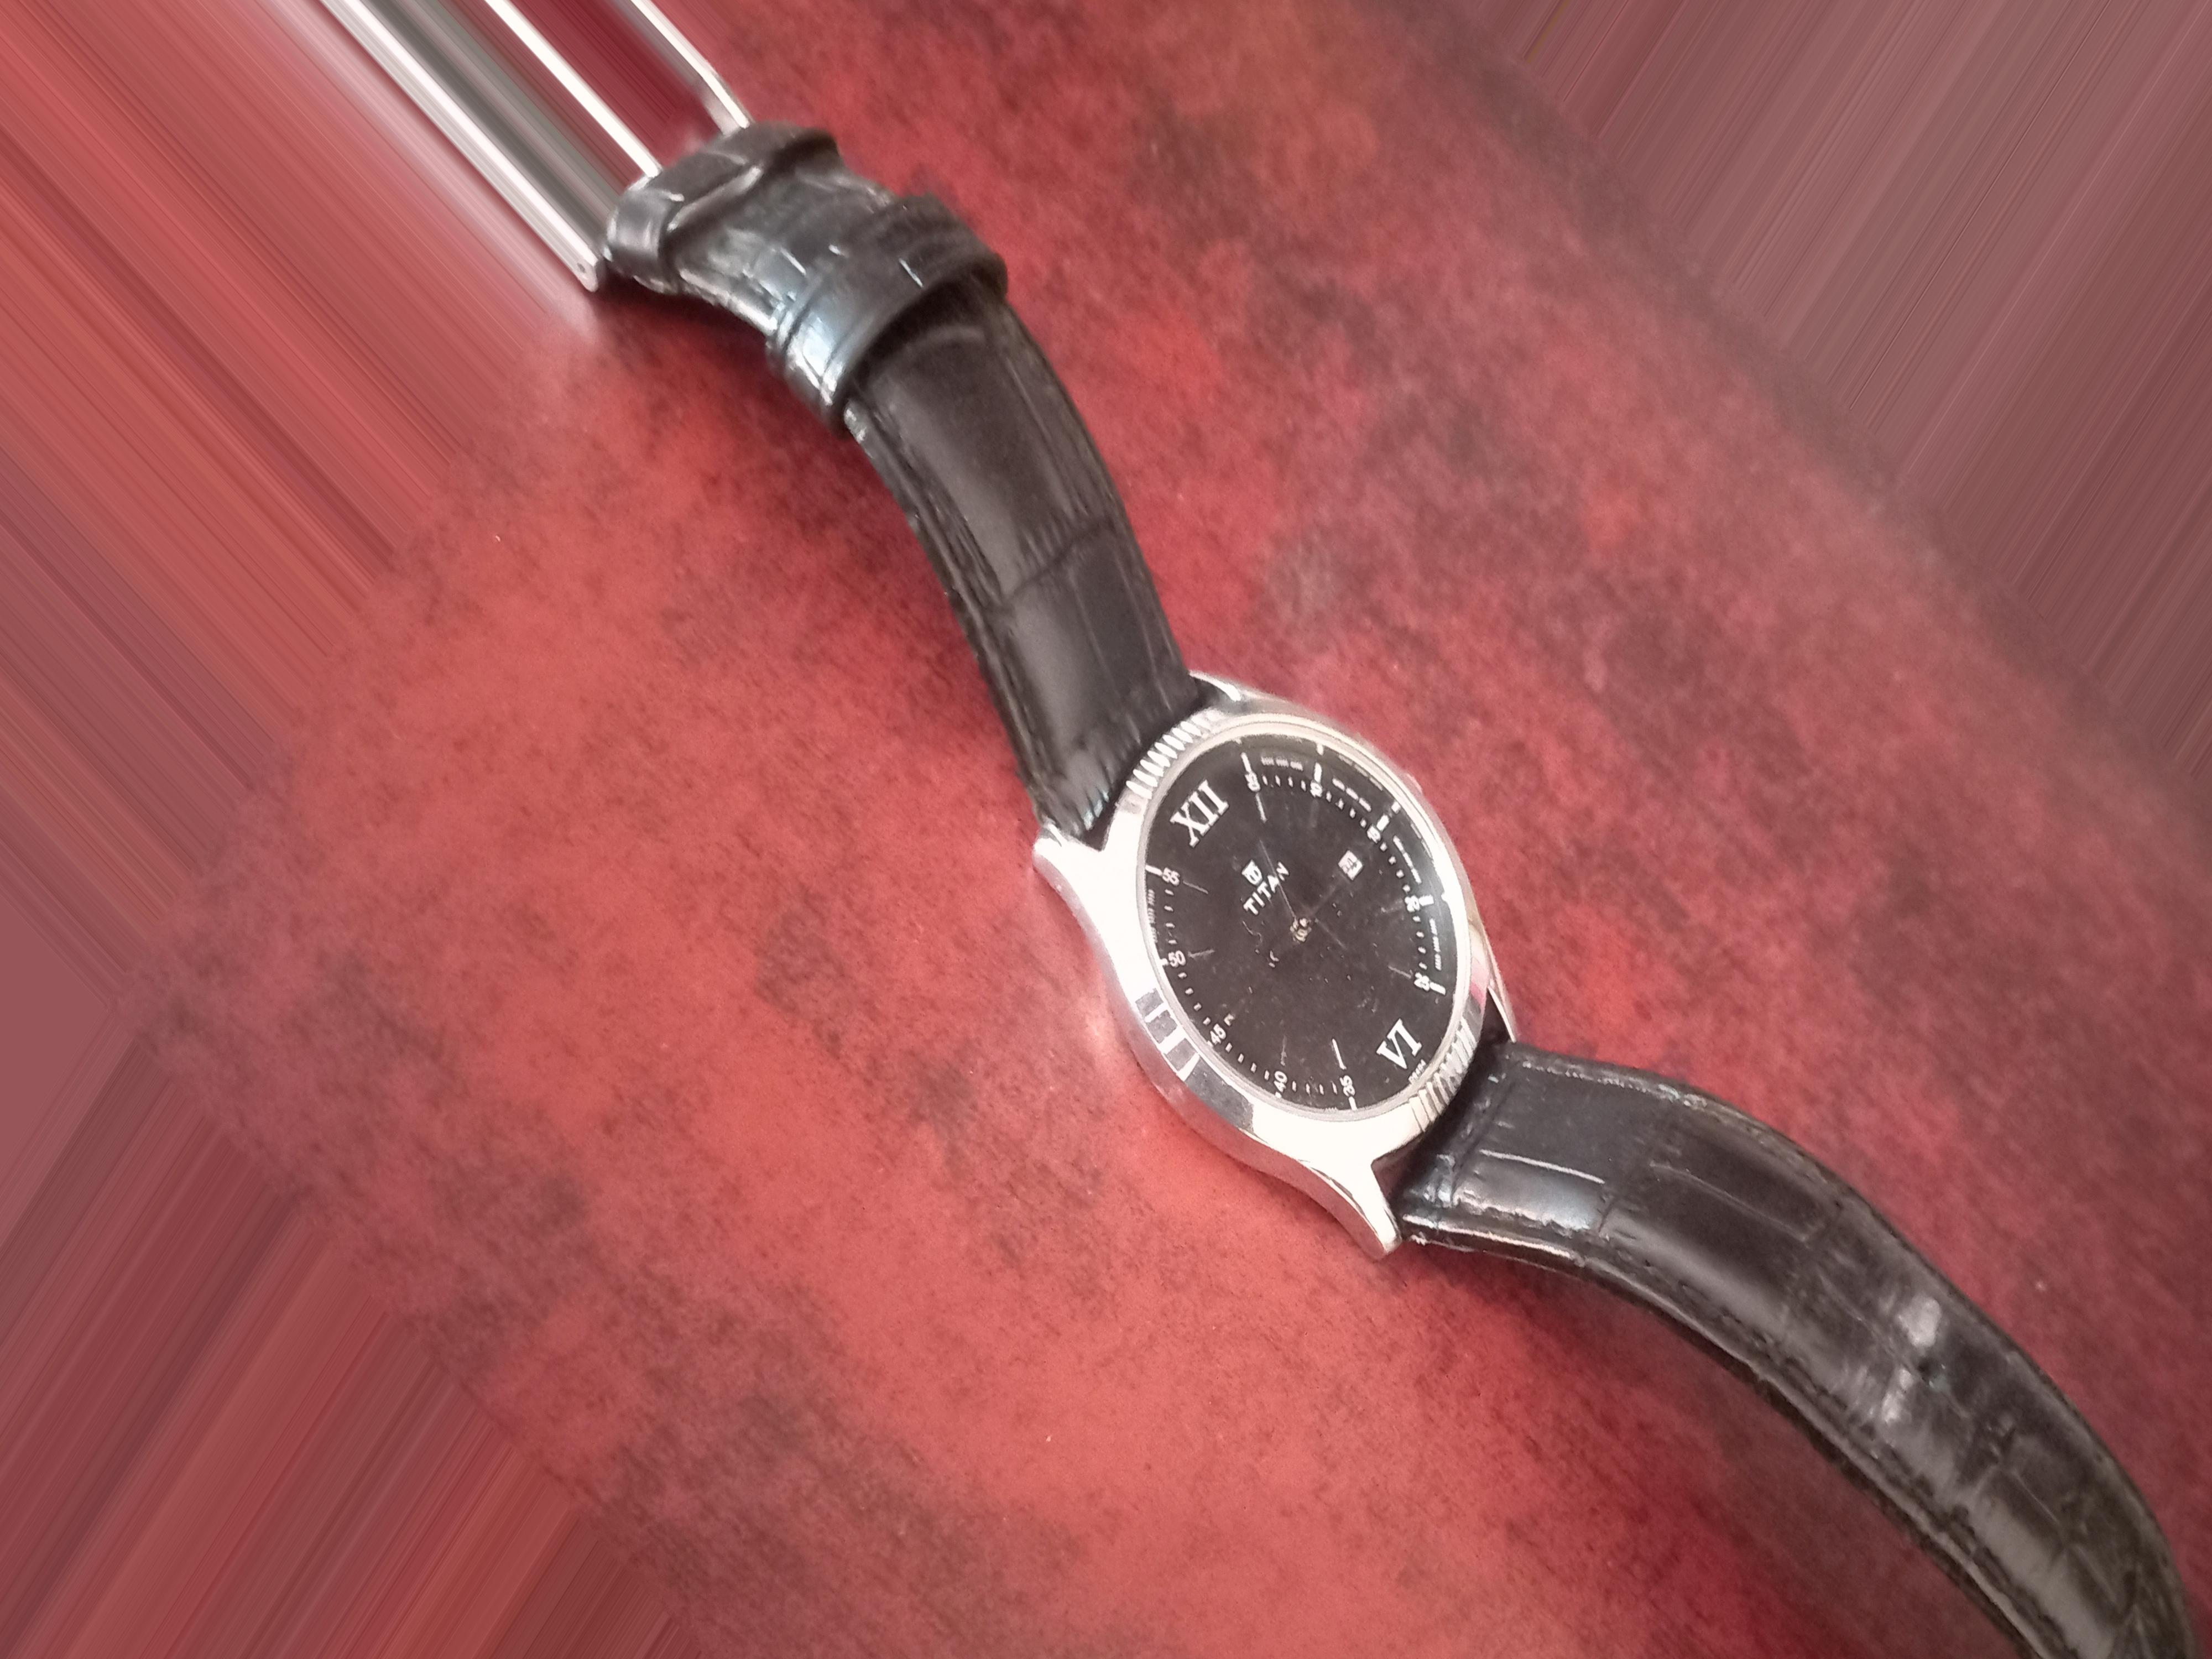watch: (411, 14, 2212, 1605)
